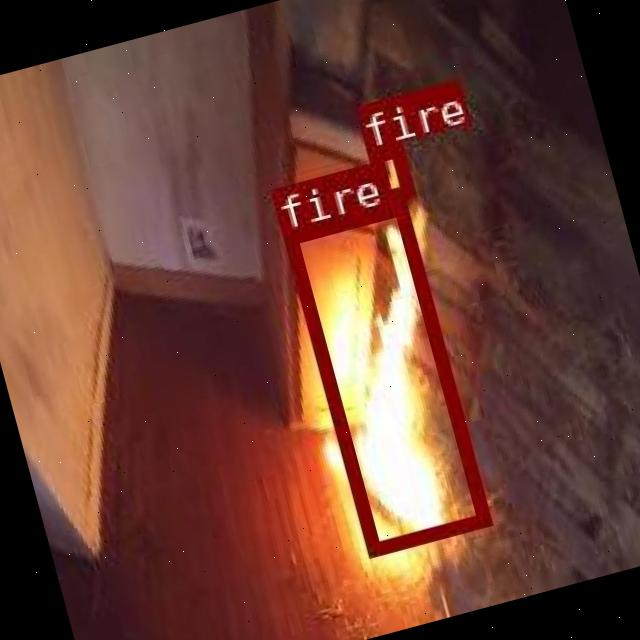fire: (280, 198, 490, 554), (366, 140, 412, 202)
